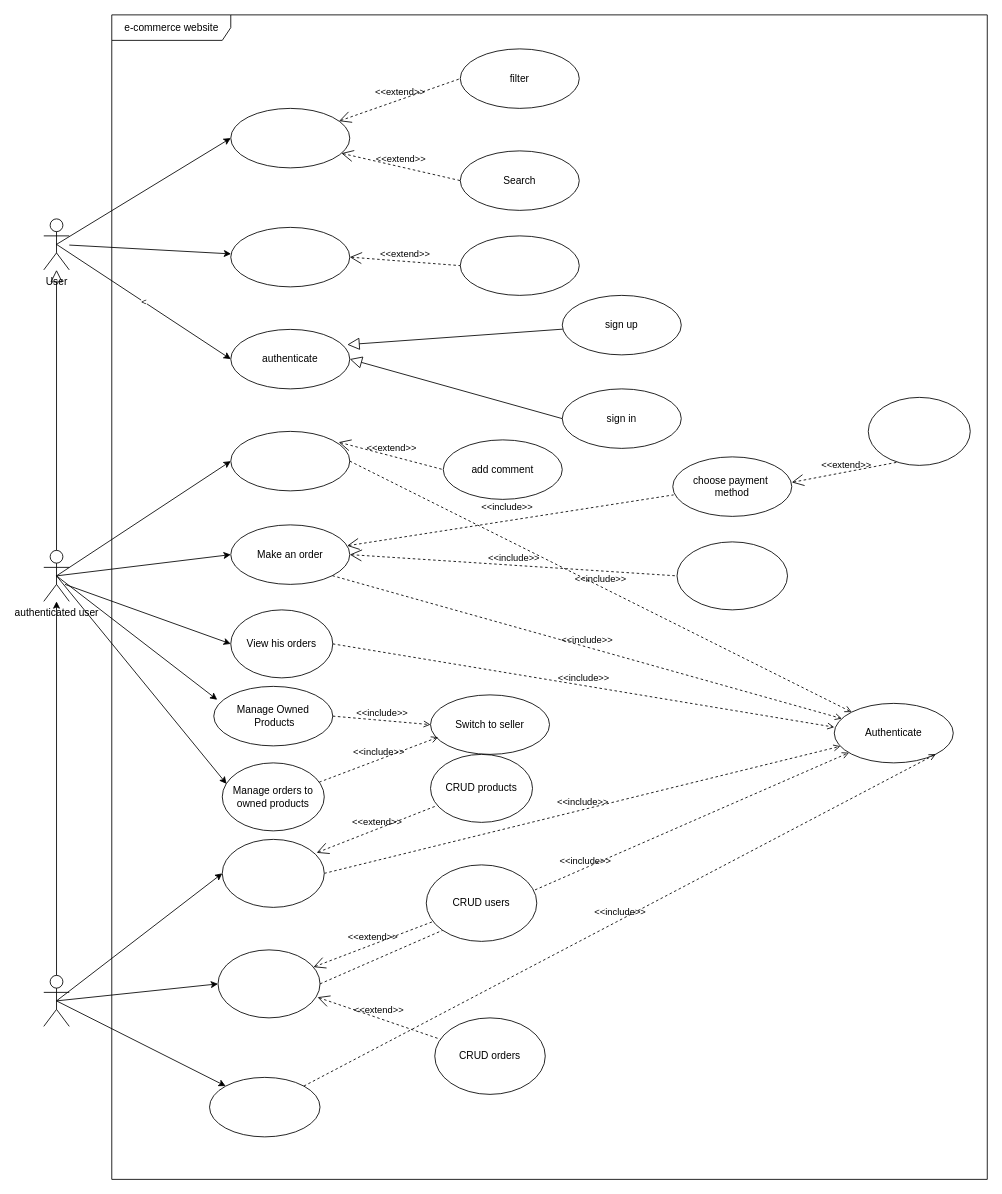
Some shapes in this 1002 by 1194 pixel diagram are drawn without their labels. The shapes that lost their labels are listed below. From the top down, each one's centre as x and y in pixels, then its label:
At pixel 290 138: "View products list".
At pixel 290 257: "View product".
At pixel 519 265: "Compare prices".
At pixel 918 431: "Pay online".
At pixel 290 461: "rate product".
At pixel 732 575: "Add product to cart".
At pixel 272 873: "Manage all products".
At pixel 56 1000: "Admin".
At pixel 268 983: "Manage Users".
At pixel 264 1107: "Manage orders".
